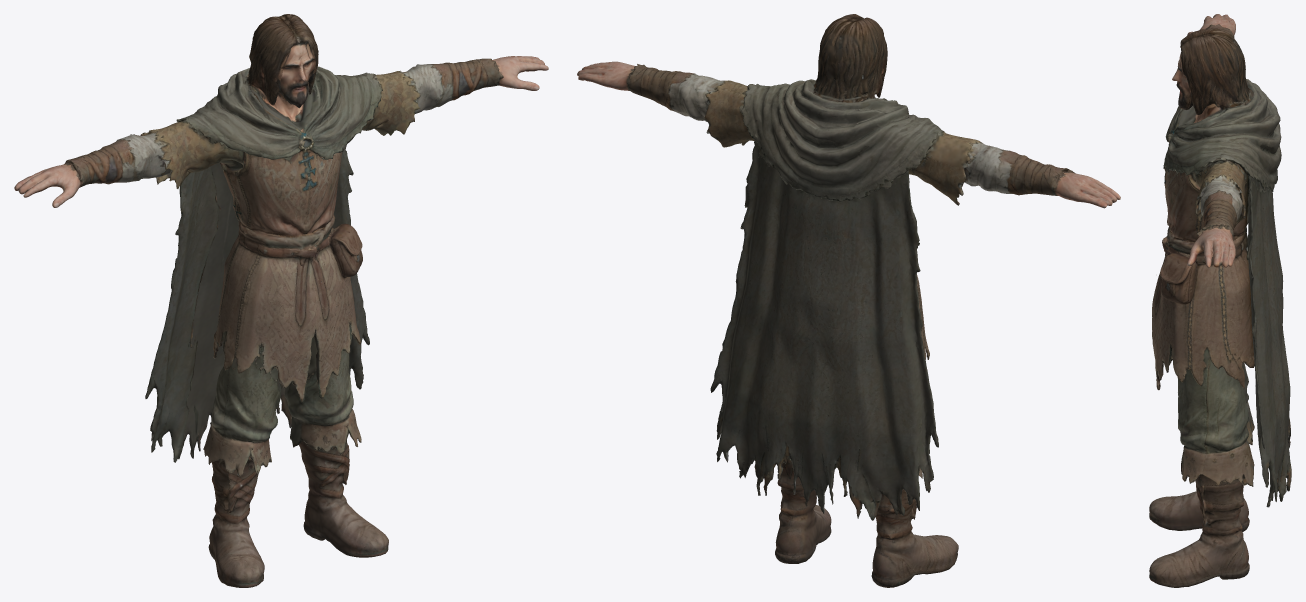
File: PlayerDiablo.glb
3 renders of one model, left to right at view 1: azimuth 30°, elevation 25°; view 2: azimuth 150°, elevation 25°; view 3: azimuth 270°, elevation 25°, orthographic. The views are drawn at different scales.
Parts seen in each view (by area): view 1: texture_mapping; view 2: texture_mapping; view 3: texture_mapping.
Part boxes in pixels (box(x1,y1,x2,y2)): texture_mapping: box(14, 14, 548, 587); texture_mapping: box(577, 14, 1120, 587); texture_mapping: box(1149, 14, 1291, 587).
Bounding box in the file's own units: 0.9994 × 0.9685 × 0.2416.
1 material, 1 textured.
